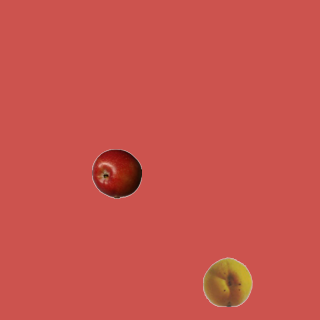Apple Braeburn: (91, 148, 141, 198)
Peach 2: (202, 256, 252, 306)
